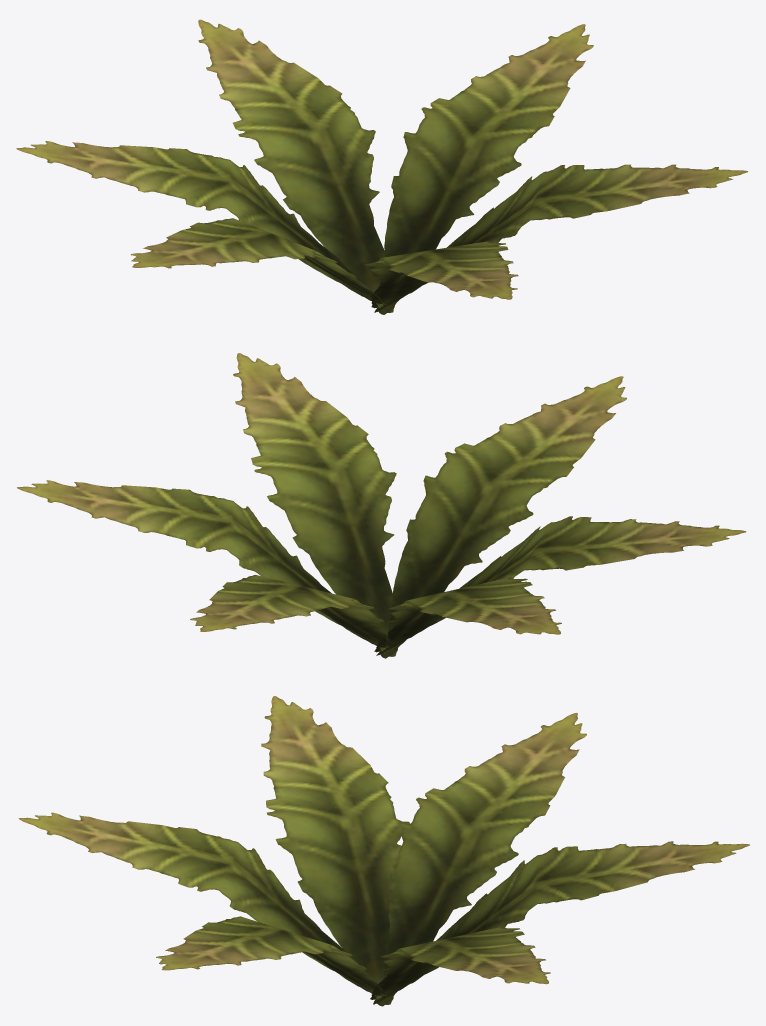
The model's file is oVgtAIO1M.FBX.
3 views of the same model, one above another, from view 1: azimuth 30°, elevation 25°; view 2: azimuth 150°, elevation 25°; view 3: azimuth 270°, elevation 25° (orthographic).
Visible parts, largest first — view 1: oVgtAIO1M; view 2: oVgtAIO1M; view 3: oVgtAIO1M.
Boxes of the visible parts, bbox=[...] form: oVgtAIO1M: bbox=[16, 19, 748, 314]; oVgtAIO1M: bbox=[16, 353, 746, 658]; oVgtAIO1M: bbox=[18, 696, 749, 1006].
Size of the model in its own units: 11.7 by 12.31 by 2.9.
1 material, 1 textured.
